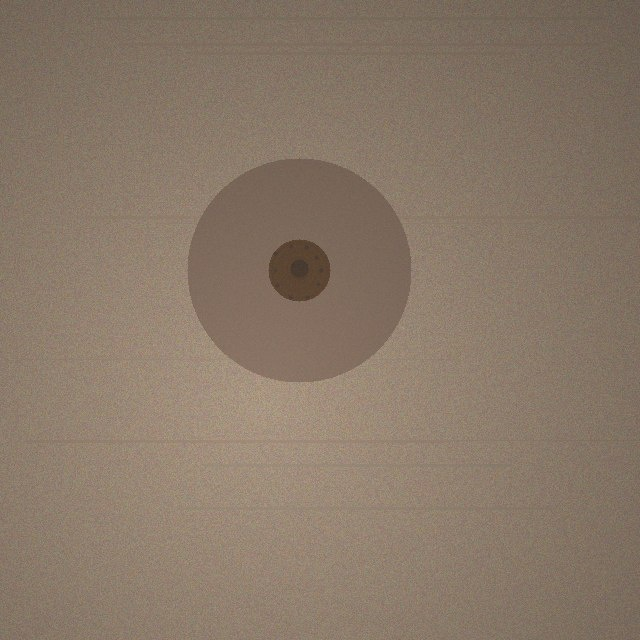cold_weld: (187, 158, 411, 382)
